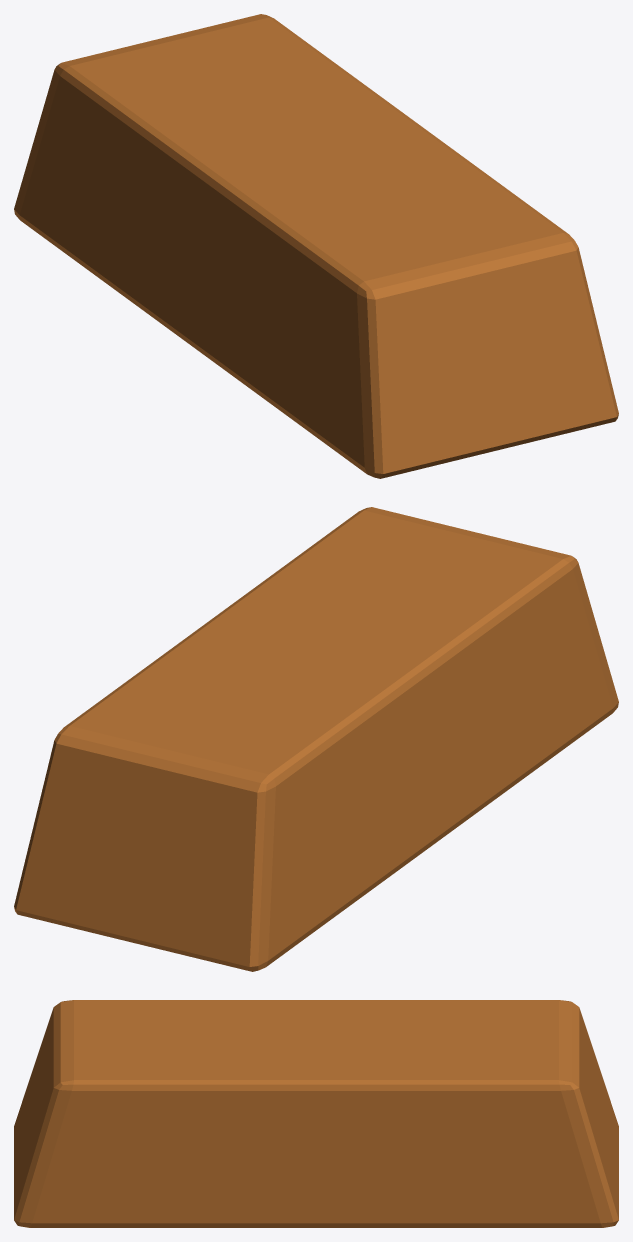
File: copper_ingot.glb
3 views of the same model, one above another, from view 1: azimuth 30°, elevation 25°; view 2: azimuth 150°, elevation 25°; view 3: azimuth 270°, elevation 25° (orthographic). The views are drawn at different scales.
Parts seen in each view (by area): view 1: Gold_Ingots; view 2: Gold_Ingots; view 3: Gold_Ingots.
Boxes of the visible parts, x1,y1,x2,y2 form: Gold_Ingots: (14,14,618,478); Gold_Ingots: (14,507,618,971); Gold_Ingots: (14,1000,618,1227).
Size of the model in its own units: 0.2346 by 0.1538 by 0.6002.
